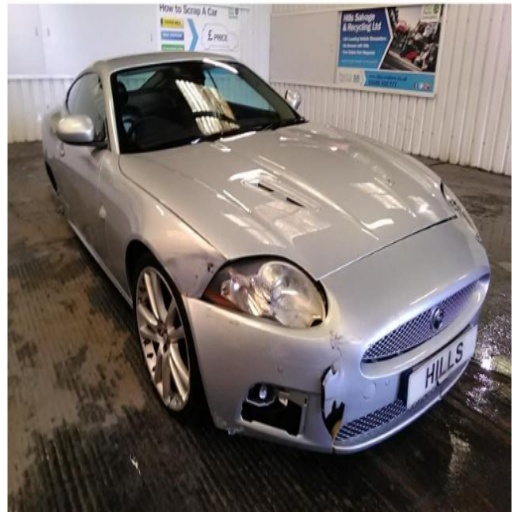dent: (161, 250, 227, 296)
scratch: (228, 319, 240, 328), (205, 307, 216, 314), (205, 313, 214, 318)
